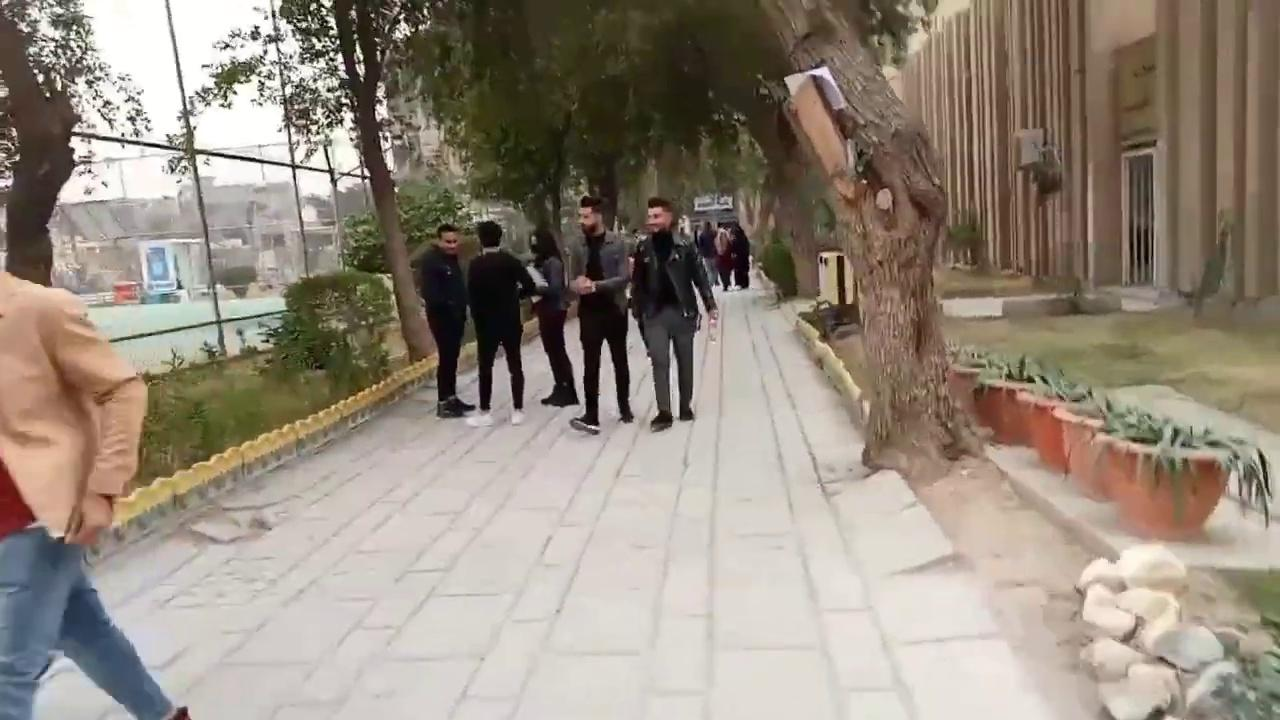person: (0, 268, 191, 719), (629, 196, 718, 432), (463, 220, 562, 427), (568, 195, 634, 434), (411, 223, 476, 418), (525, 228, 579, 407)
tree: (755, 0, 993, 477), (185, 0, 452, 364), (389, 0, 594, 269), (554, 0, 745, 235), (0, 0, 152, 288), (1090, 402, 1238, 539), (946, 343, 1047, 445), (943, 201, 989, 270), (756, 226, 798, 301)
